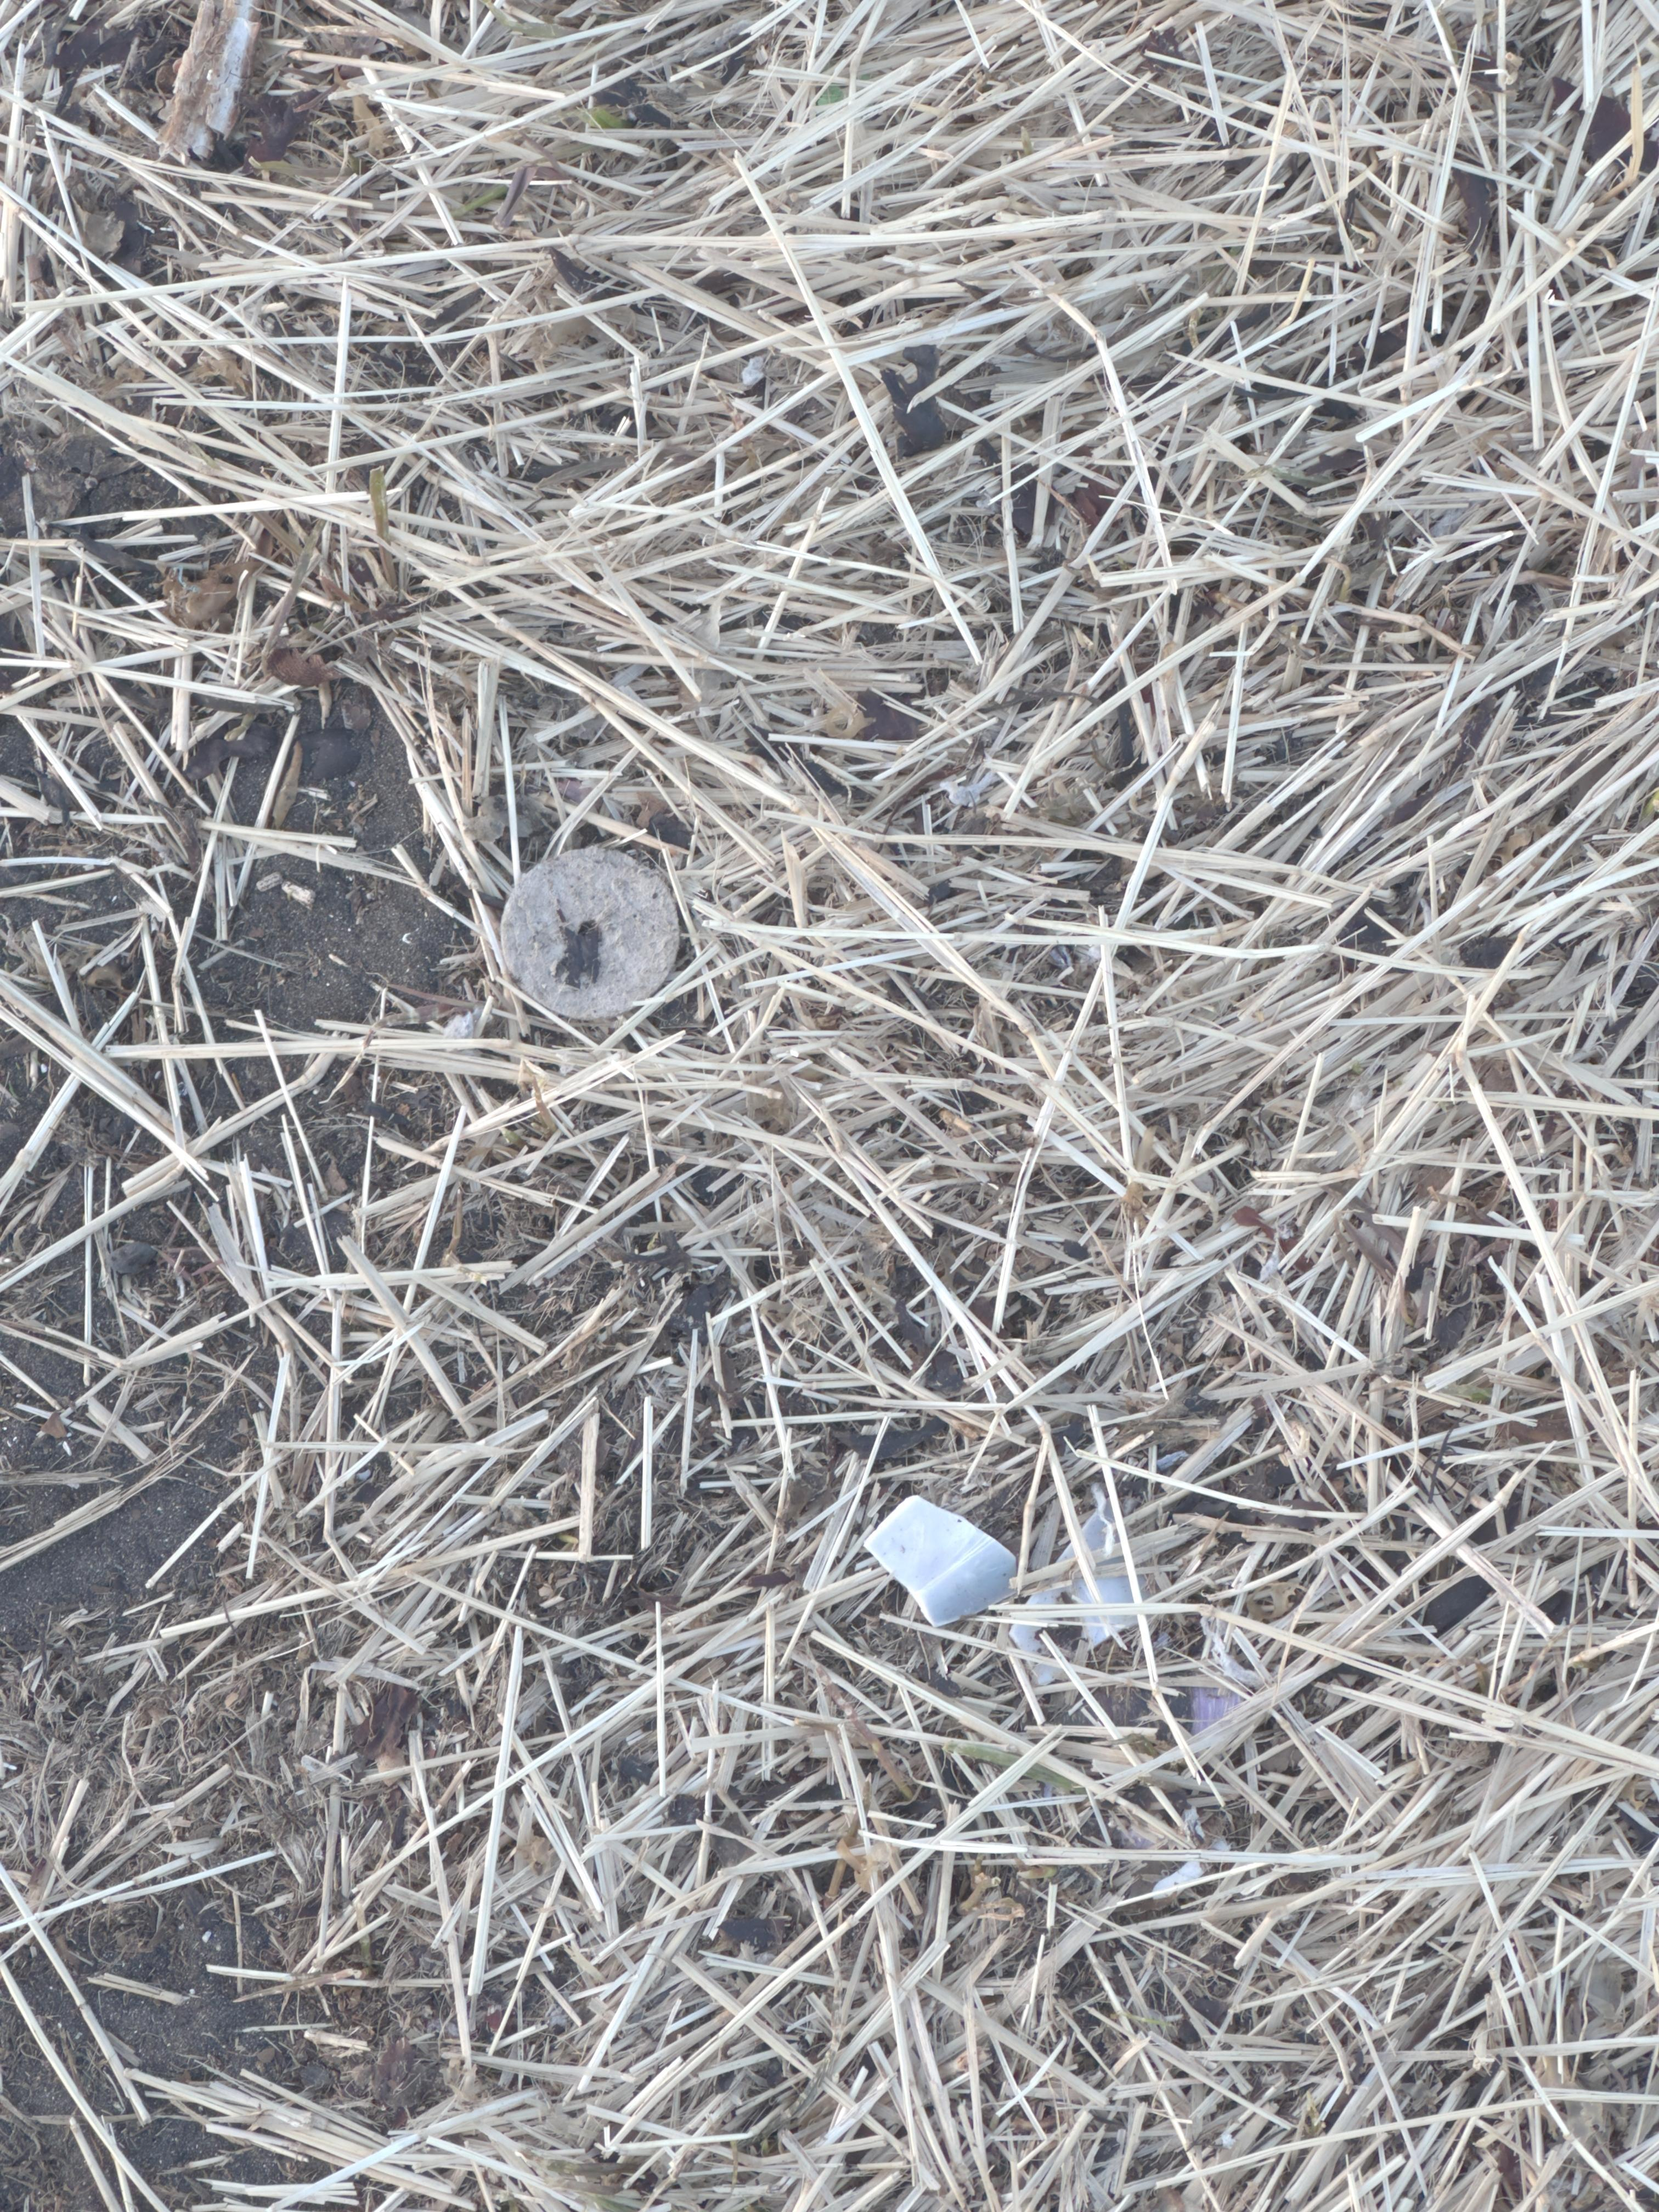trash: (864, 1494, 1016, 1625)
